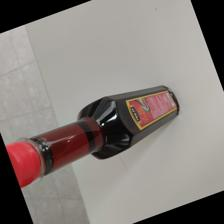Namngu: (1, 85, 179, 188)
